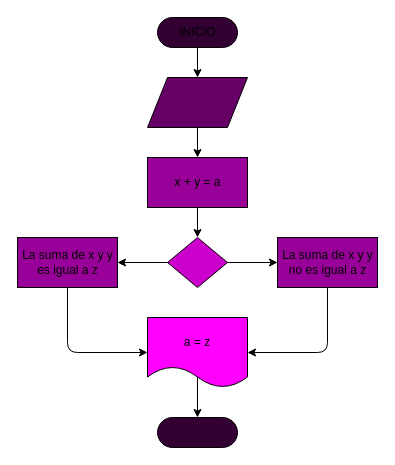
The diagram is 395 pixels wide and 465 high, and some of its shapes have lost their labels. The box of each missing label's shape, as (x1, y1, x2, y2) in pixels:
a == z: (166, 236, 228, 288)
FIN: (156, 416, 238, 448)
x y z: (146, 76, 248, 128)
